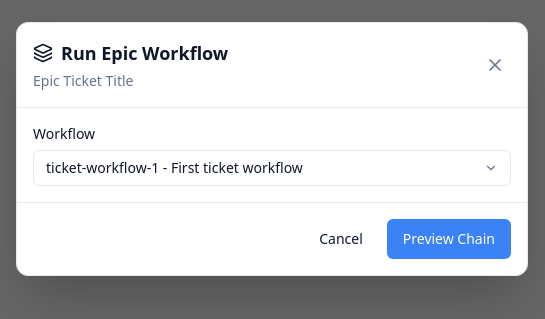
RunEpicWorkflowDialog › edge cases › handles chain with single item
Click the button "Preview Chain": [449, 239] box left=387, top=219, right=511, bottom=259
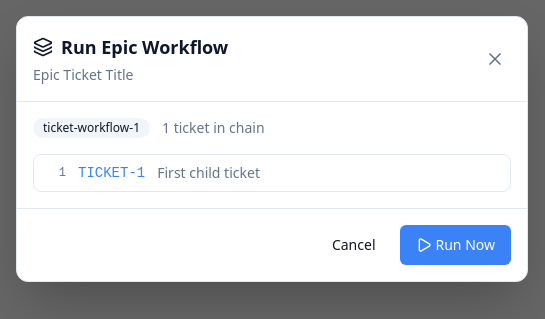
Expected: the text "1 ticket in chain" is shown, left=162, top=118, right=264, bottom=138
